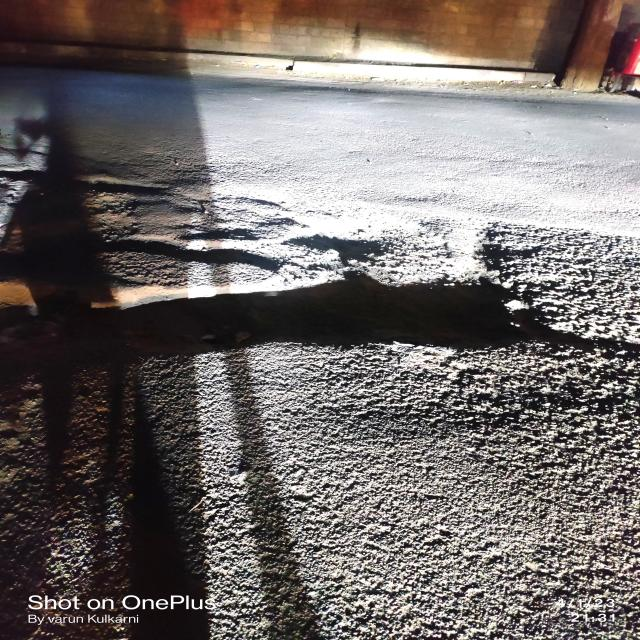potholes: (51, 272, 588, 368)
